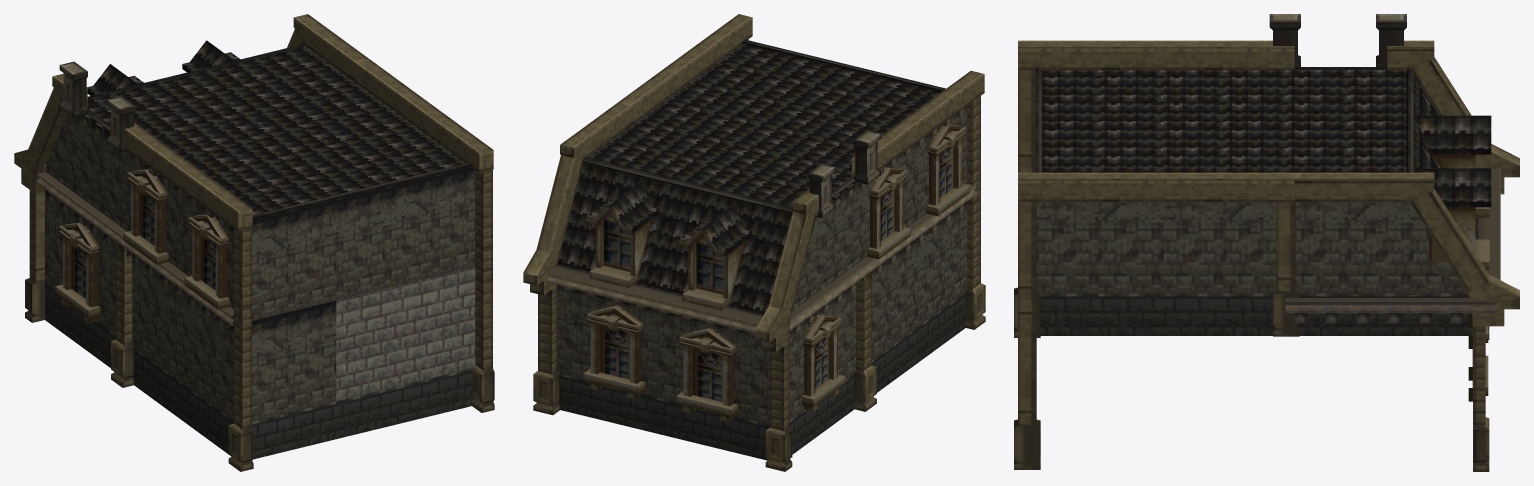
File: EnvBdgMD_City_B_Outdoor_S_C.FBX
3 renders of one model, left to right at view 1: azimuth 30°, elevation 25°; view 2: azimuth 150°, elevation 25°; view 3: azimuth 270°, elevation 25°, orthographic. The views are drawn at different scales.
Visible parts, largest first — view 1: EnvBdgMD_City_B_Outdoor_S_C; view 2: EnvBdgMD_City_B_Outdoor_S_C; view 3: EnvBdgMD_City_B_Outdoor_S_C.
Boxes of the visible parts, <box> form: EnvBdgMD_City_B_Outdoor_S_C: <box>14,14,494,471</box>; EnvBdgMD_City_B_Outdoor_S_C: <box>523,14,985,471</box>; EnvBdgMD_City_B_Outdoor_S_C: <box>1014,14,1519,471</box>.
Size of the model in its own units: 546 by 555 by 810.
Materials: 1 (1 with a texture image).
